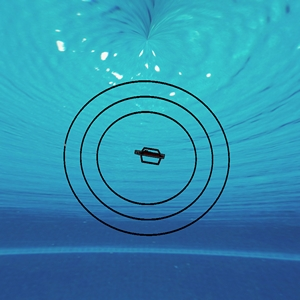circle: (54, 69, 240, 246)
